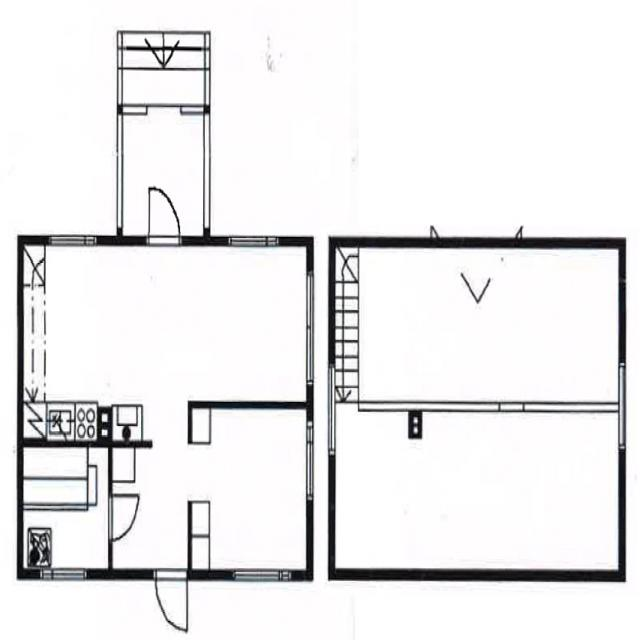door: (149, 182, 180, 245), (156, 568, 187, 630), (108, 495, 139, 540)
